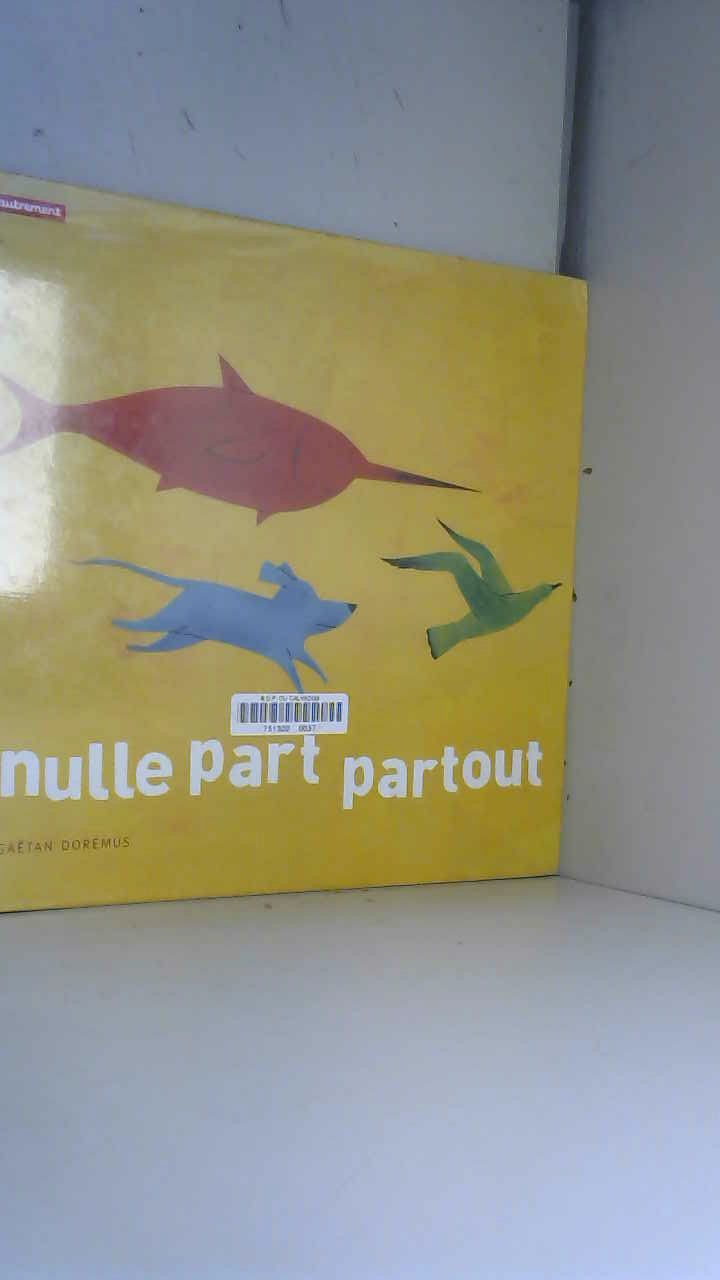book: (0, 161, 609, 927)
